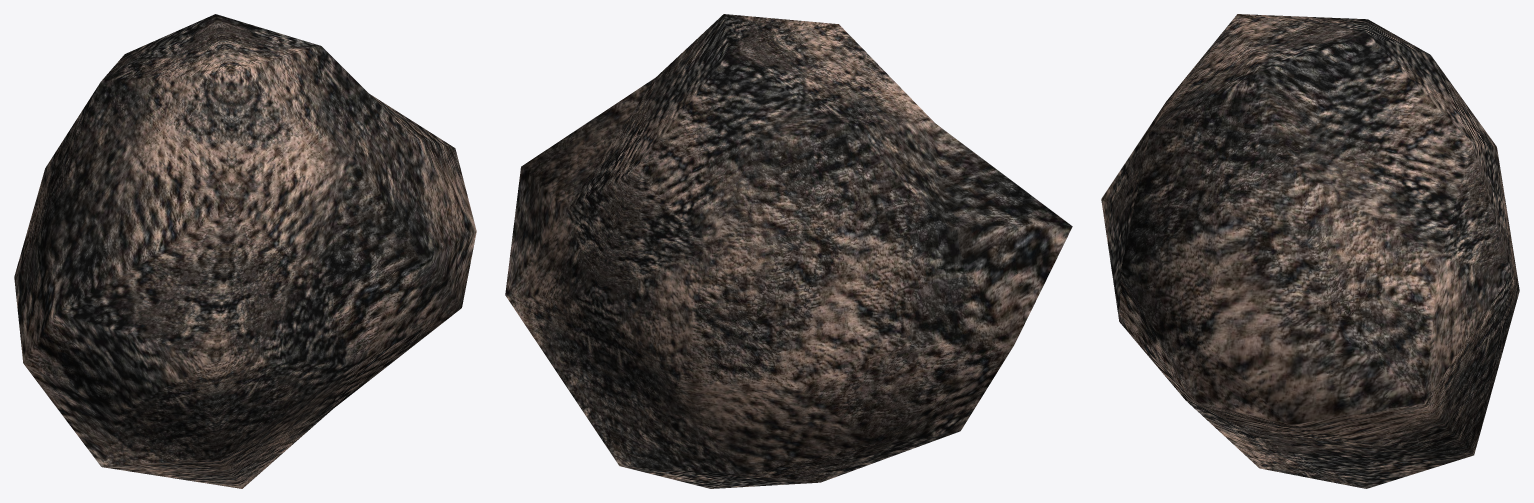
The model's file is asteroid1.dae.
The picture shows the model from 3 angles, left to right: view 1: azimuth 30°, elevation 25°; view 2: azimuth 150°, elevation 25°; view 3: azimuth 270°, elevation 25°; orthographic projection. The views are drawn at different scales.
Parts seen in each view (by area): view 1: default; view 2: default; view 3: default.
Boxes of the visible parts, x1,y1,x2,y2 form: default: (14, 14, 476, 488); default: (505, 14, 1072, 488); default: (1101, 14, 1519, 488).
Bounding box in the file's own units: 35.04 × 30.62 × 26.04.
1 material, 1 textured.
